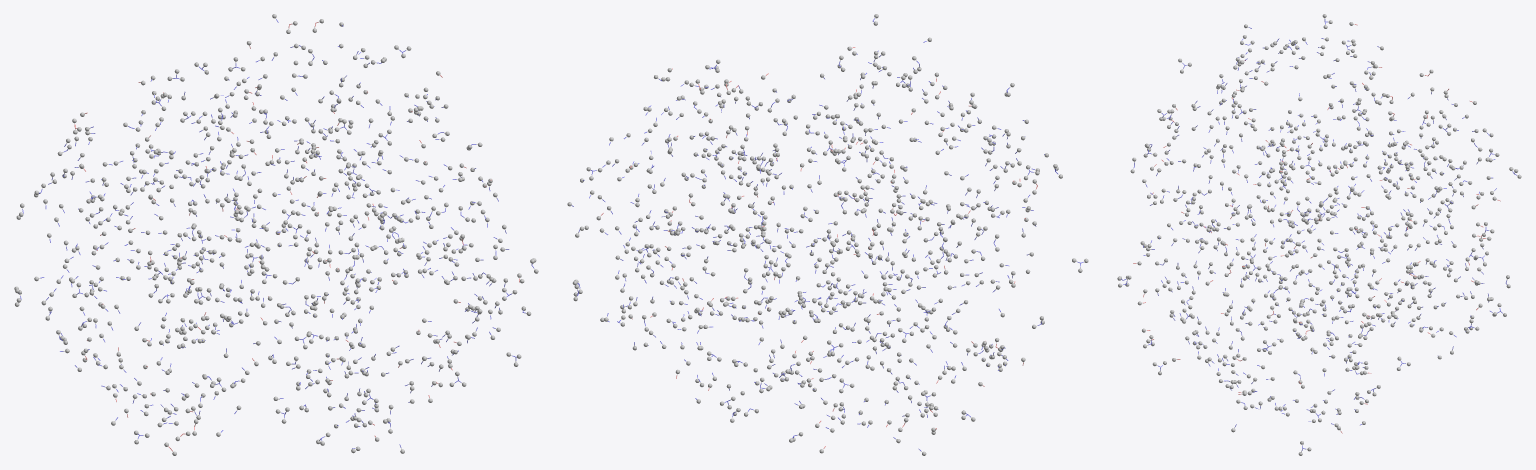
Rendered from 4hhb__ball_and_stick__default__H.glb.
3 views of the same model, side by side, from view 1: azimuth 30°, elevation 25°; view 2: azimuth 150°, elevation 25°; view 3: azimuth 270°, elevation 25° (orthographic). The views are drawn at different scales.
Visible parts, largest first — view 1: Renderer Node; view 2: Renderer Node; view 3: Renderer Node.
Part boxes in pixels (box(x1,y1,x2,y2)): Renderer Node: box(14, 14, 538, 455); Renderer Node: box(567, 14, 1088, 455); Renderer Node: box(1117, 14, 1521, 455).
Size of the model in its own units: 68.73 by 58.8 by 59.22.
